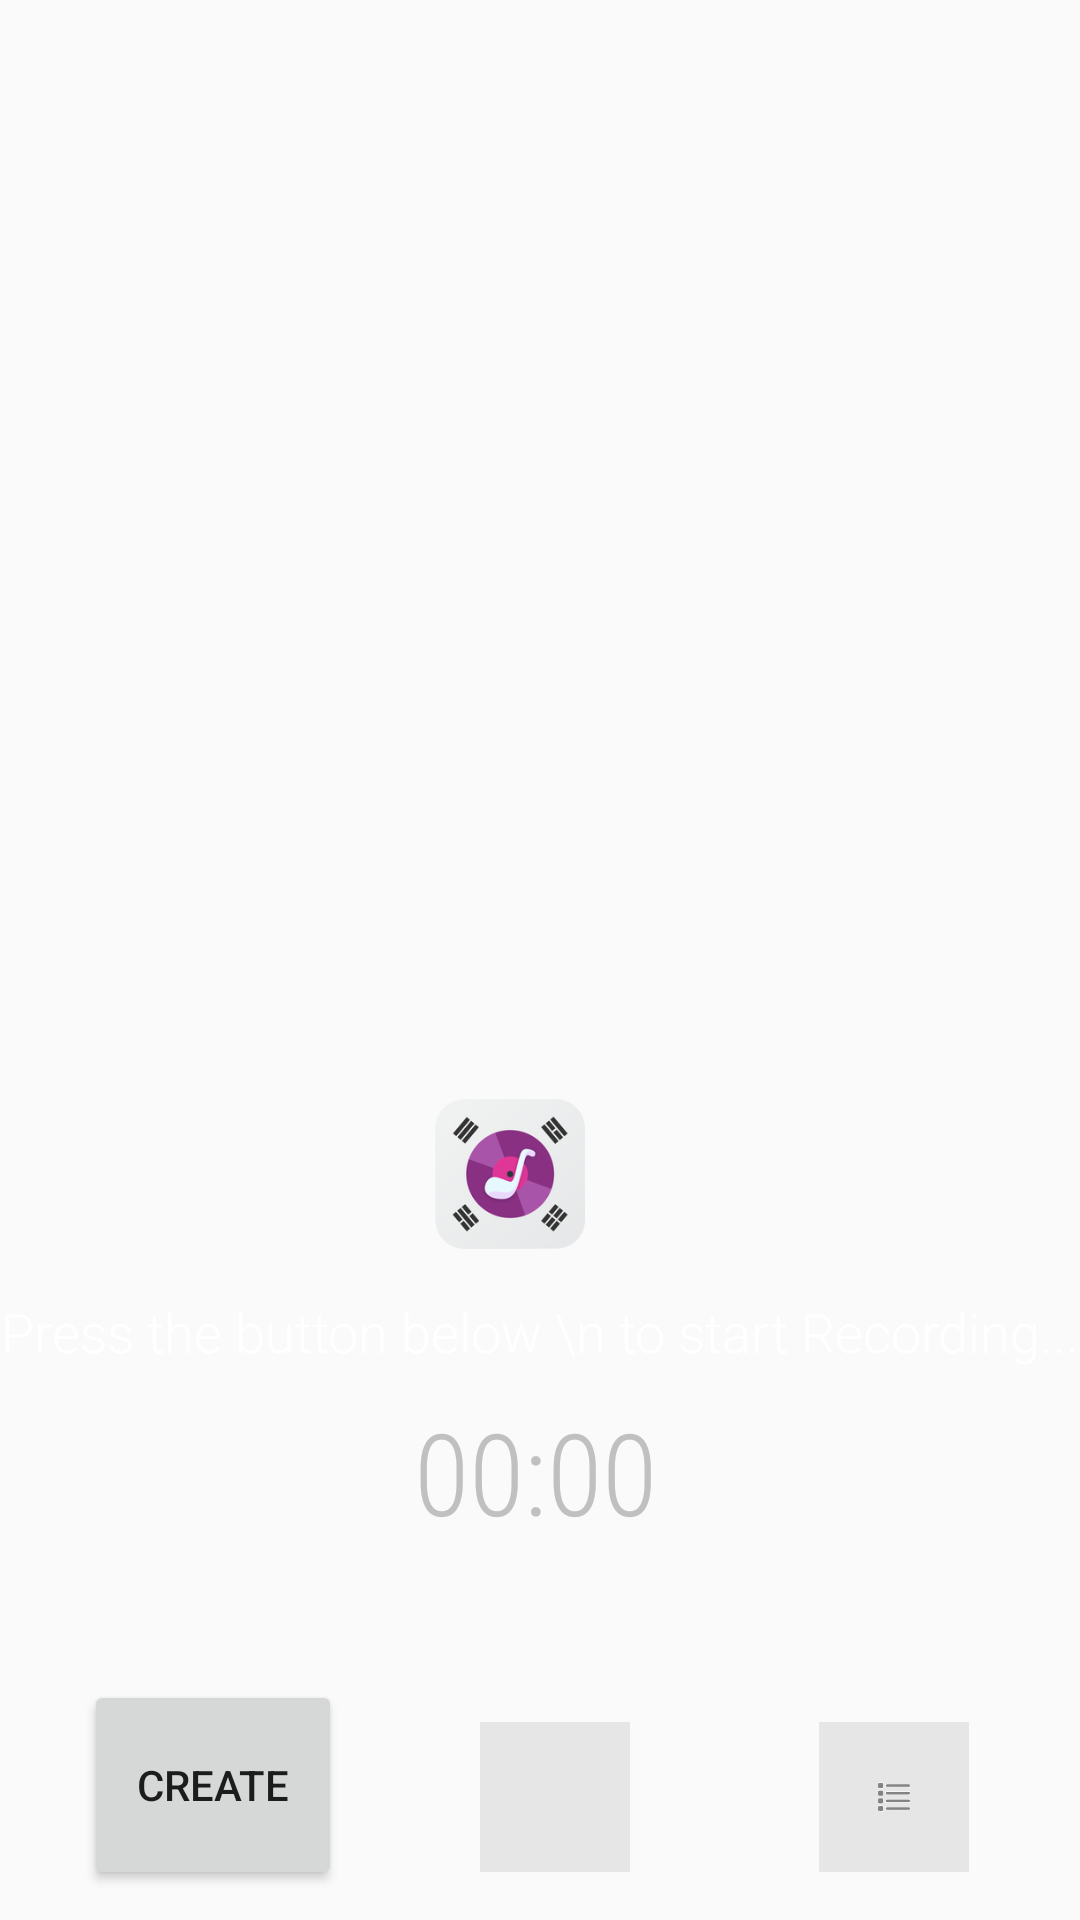

Icon click points for this 1080 × 1920 phone screenshot, format point (x, y):
listbtn: point (894, 1797)
